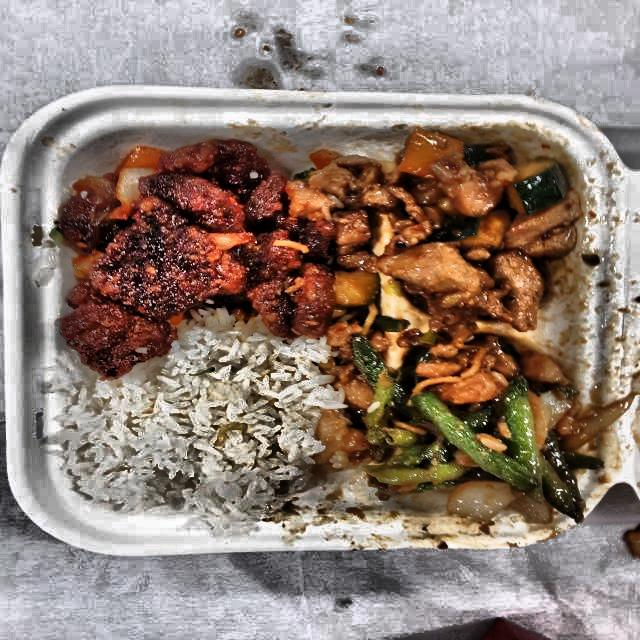Food: (51, 131, 322, 384), (310, 122, 590, 336), (338, 324, 584, 518), (70, 346, 328, 524)
